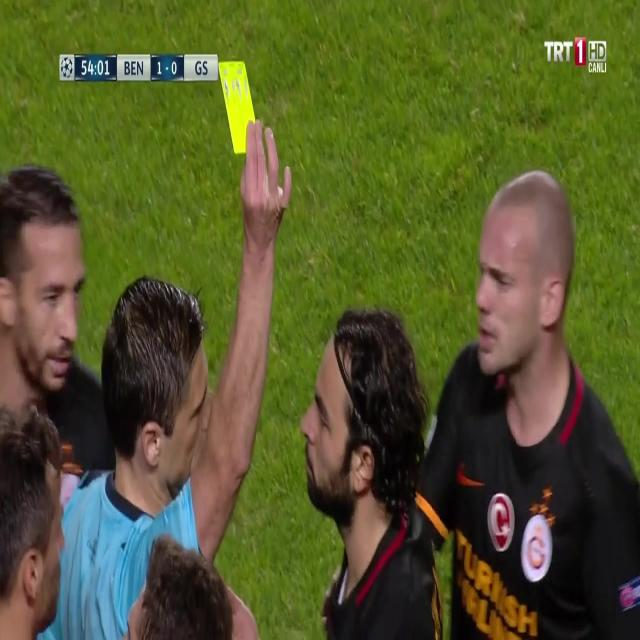Player: (409, 167, 640, 640), (302, 293, 445, 640), (0, 156, 111, 475), (0, 401, 68, 640)
Referee: (50, 112, 292, 638)
